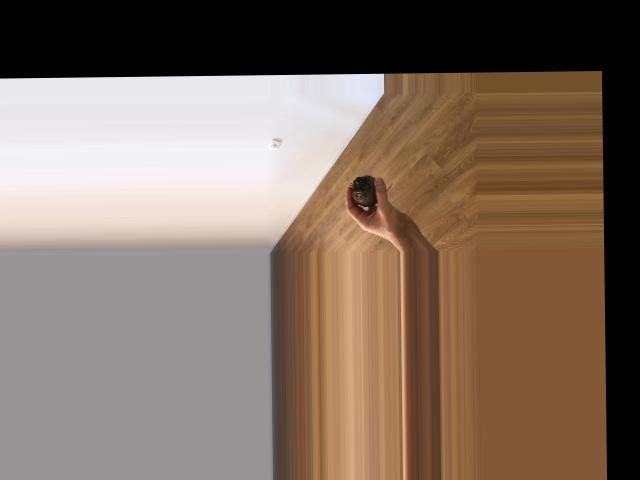beet: (350, 174, 391, 206)
